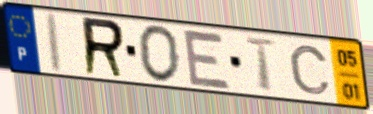C: (287, 43, 333, 97)
E: (179, 26, 233, 92)
I: (46, 10, 66, 75)
O: (135, 23, 183, 85)
R: (80, 14, 128, 81)
T: (243, 35, 280, 94)
